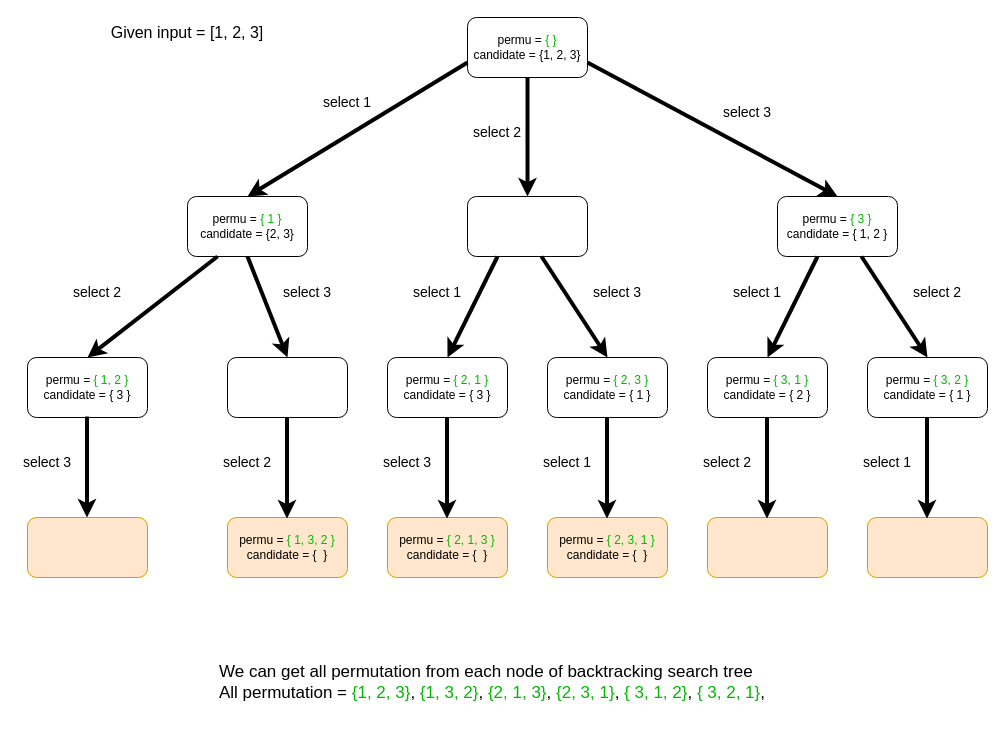
Image size: 1005x745. Some labels were removed from this diagram. The shapes that lost their labels are listed below. From the top down, each one's centre as x and y in pixels, then its label:
point 527,226: permu = { 2 } candidate = { 1, 3 }
point 287,387: permu = { 1, 3 } candidate = { 2 }
point 87,547: permu = { 1, 2, 3 } candidate = { }
point 767,547: permu = { 3, 1, 2 } candidate = { }
point 927,547: permu = { 3, 2, 1 } candidate = { }
